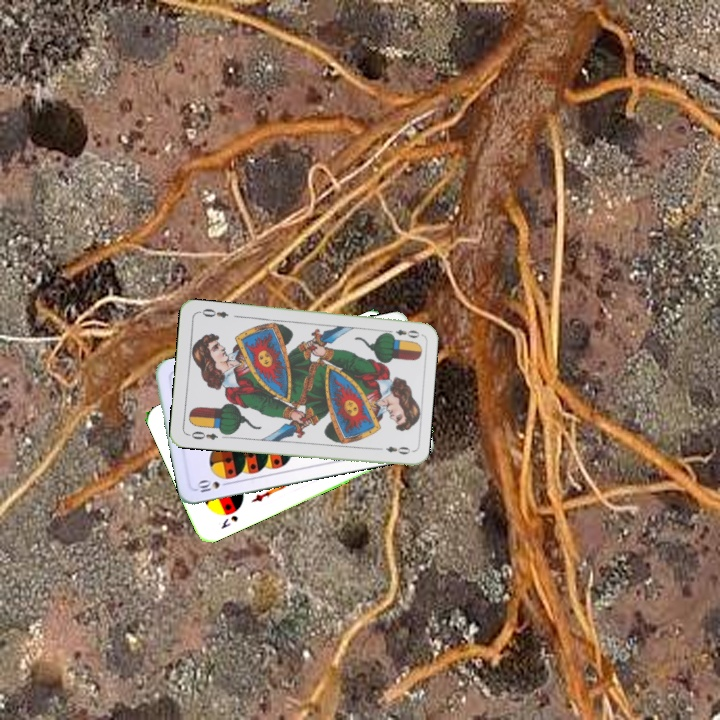EO: (382, 325, 422, 340), (184, 427, 220, 443)
S10: (192, 476, 233, 495)
SK: (217, 511, 241, 532)
